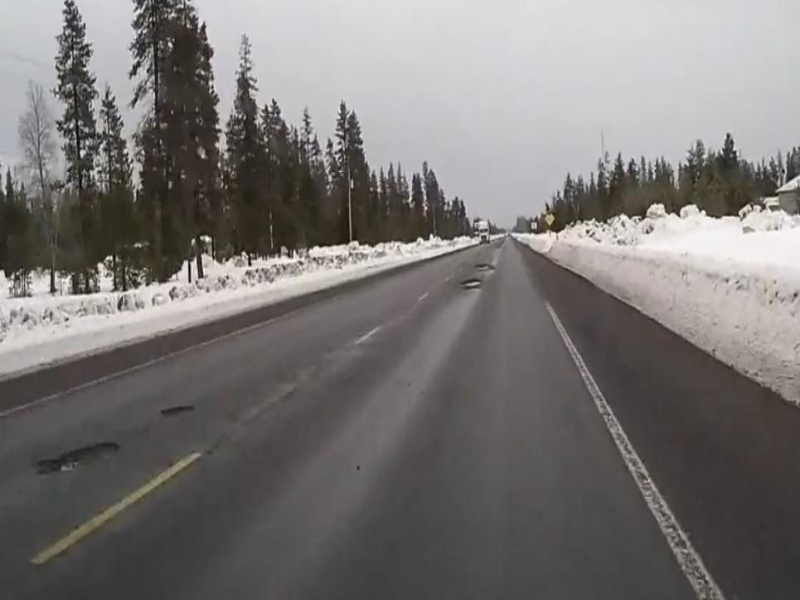pothole: (40, 436, 123, 477), (462, 277, 484, 291)
